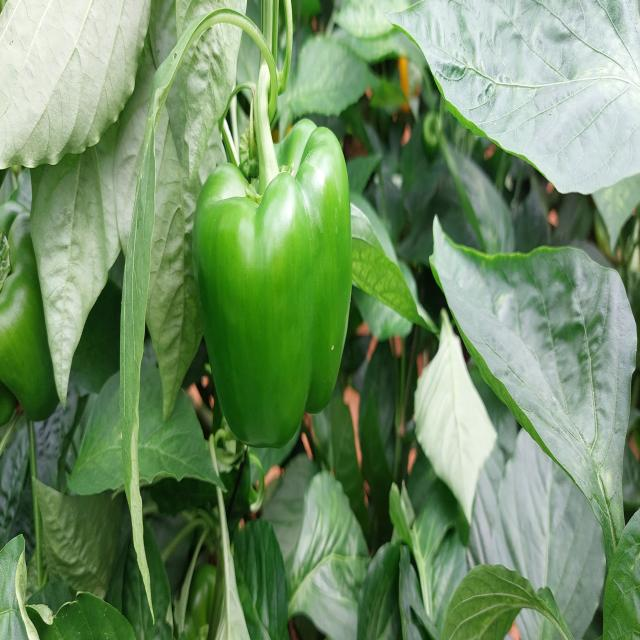Green--Not-ready-to-harvest: (0, 210, 71, 428)
